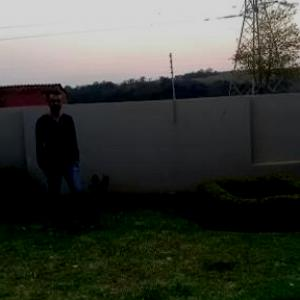follow: (34, 87, 82, 231)
